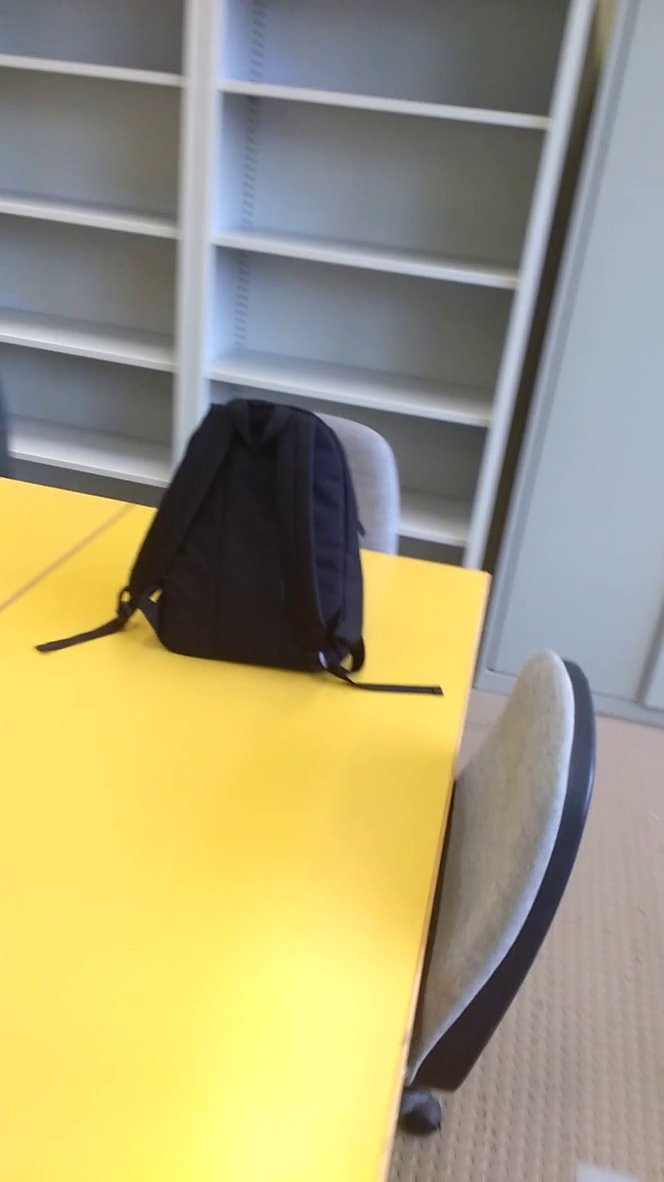bag: (37, 390, 381, 701)
chair: (397, 636, 614, 1150)
